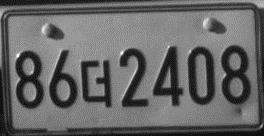0: (186, 45, 216, 105)
2: (117, 46, 152, 108)
4: (150, 45, 185, 108)
6: (46, 46, 80, 108)
8: (219, 43, 253, 105), (12, 48, 46, 109)
더: (79, 58, 113, 108)
